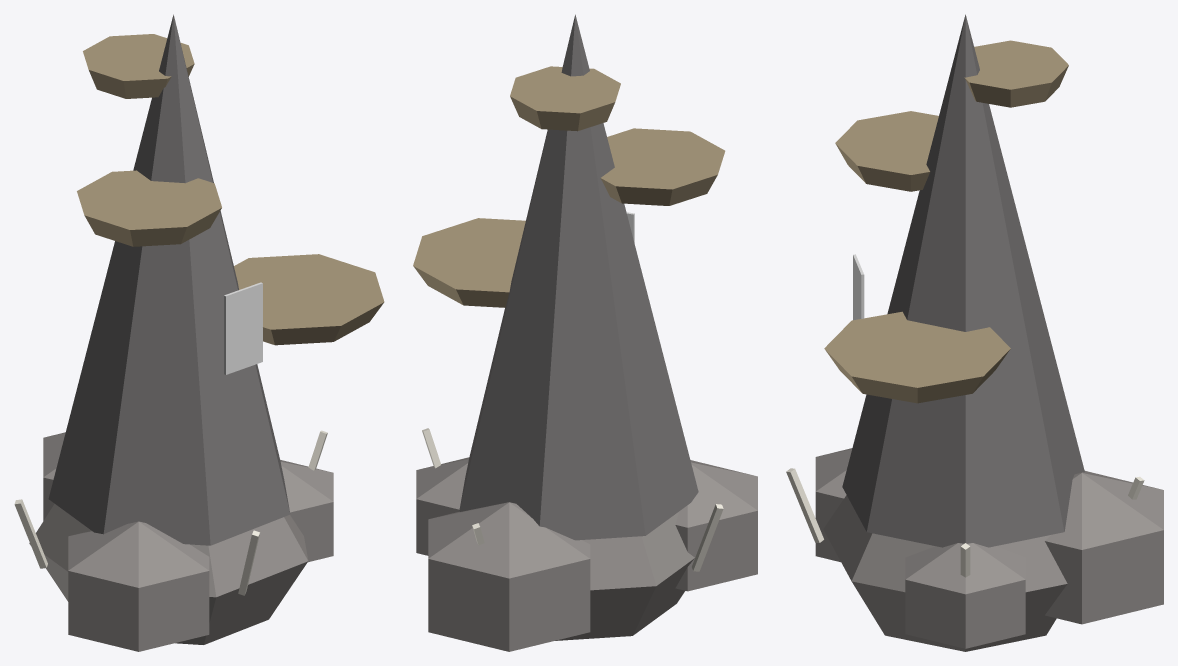
3 views of the same model, side by side, from view 1: azimuth 30°, elevation 25°; view 2: azimuth 150°, elevation 25°; view 3: azimuth 270°, elevation 25° (orthographic).
Visible parts, largest first — view 1: body; view 2: body; view 3: body.
Part boxes in pixels (x1,y1,x2,y2): body: (14,14,384,651); body: (413,14,757,651); body: (786,14,1163,651).
Bounding box in the file's own units: 7.94 × 14.1 × 7.77.
